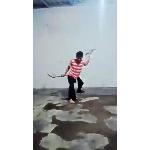Celurit: (42, 70, 70, 80)
